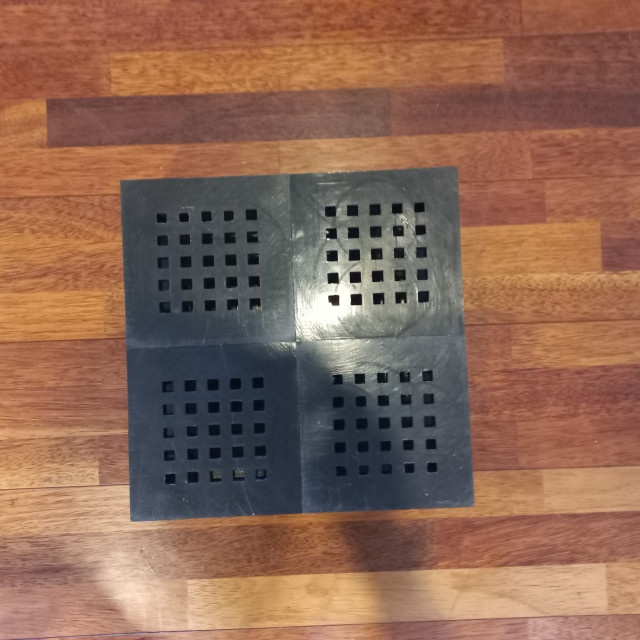pallet: (119, 146, 476, 535)
